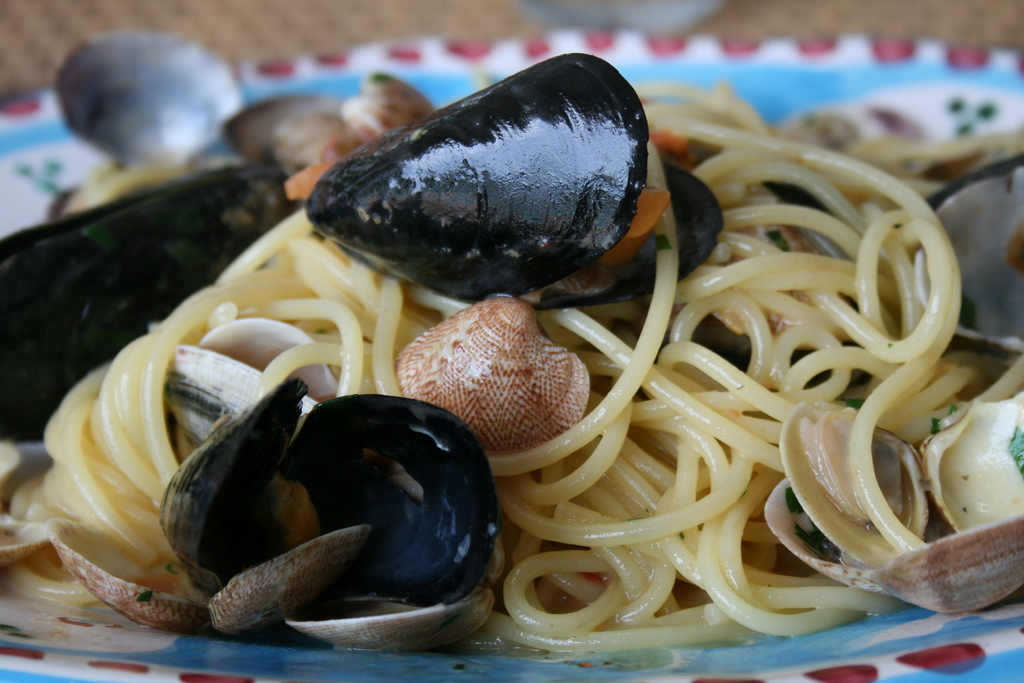pasta: (0, 52, 1023, 659)
